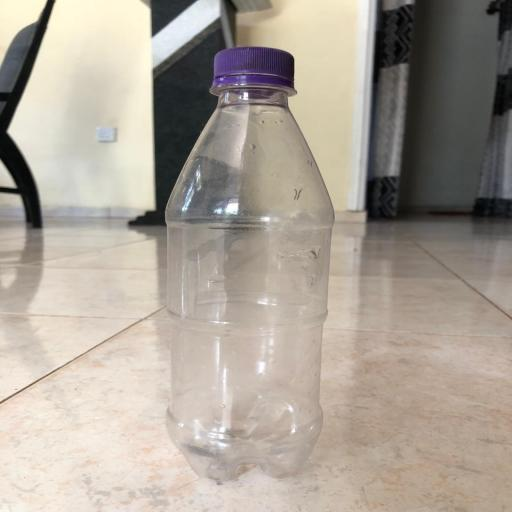waste: (149, 33, 363, 491)
